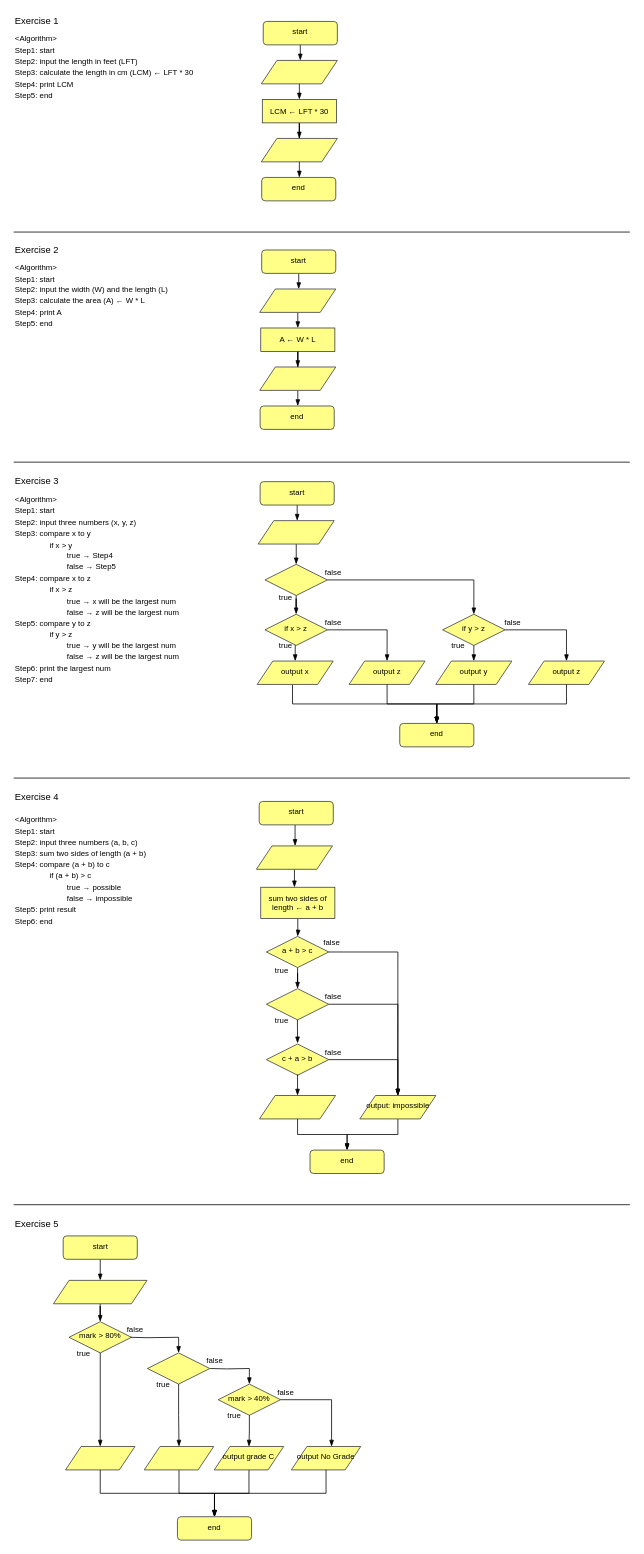
This 644x1554 diagram has some shape labels left out. The box of each missing label's shape, as (x1, y1, x2, y2) in pixels:
b + c > a: (266, 988, 329, 1020)
if x > y: (264, 564, 327, 596)
input a,b,c: (256, 845, 332, 869)
input LFT: (261, 60, 337, 84)
input name, mark: (53, 1280, 147, 1304)
input W, L: (259, 288, 336, 312)
input x,y,z: (257, 520, 334, 544)
mark > 60%: (147, 1352, 210, 1384)
output A: (259, 366, 336, 390)
output grade A: (65, 1446, 135, 1470)
output grade B: (144, 1446, 214, 1470)
output LCM: (261, 138, 337, 162)
output: possible: (259, 1095, 336, 1119)
